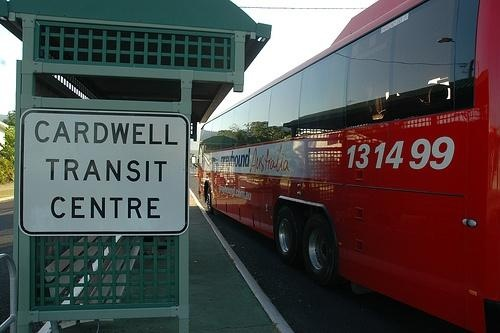bus: (191, 2, 500, 333)
